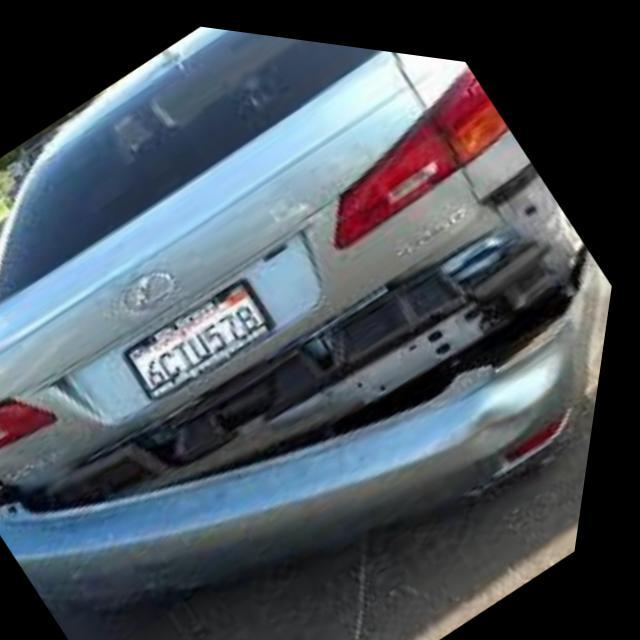dislocated part: (0, 188, 609, 609)
